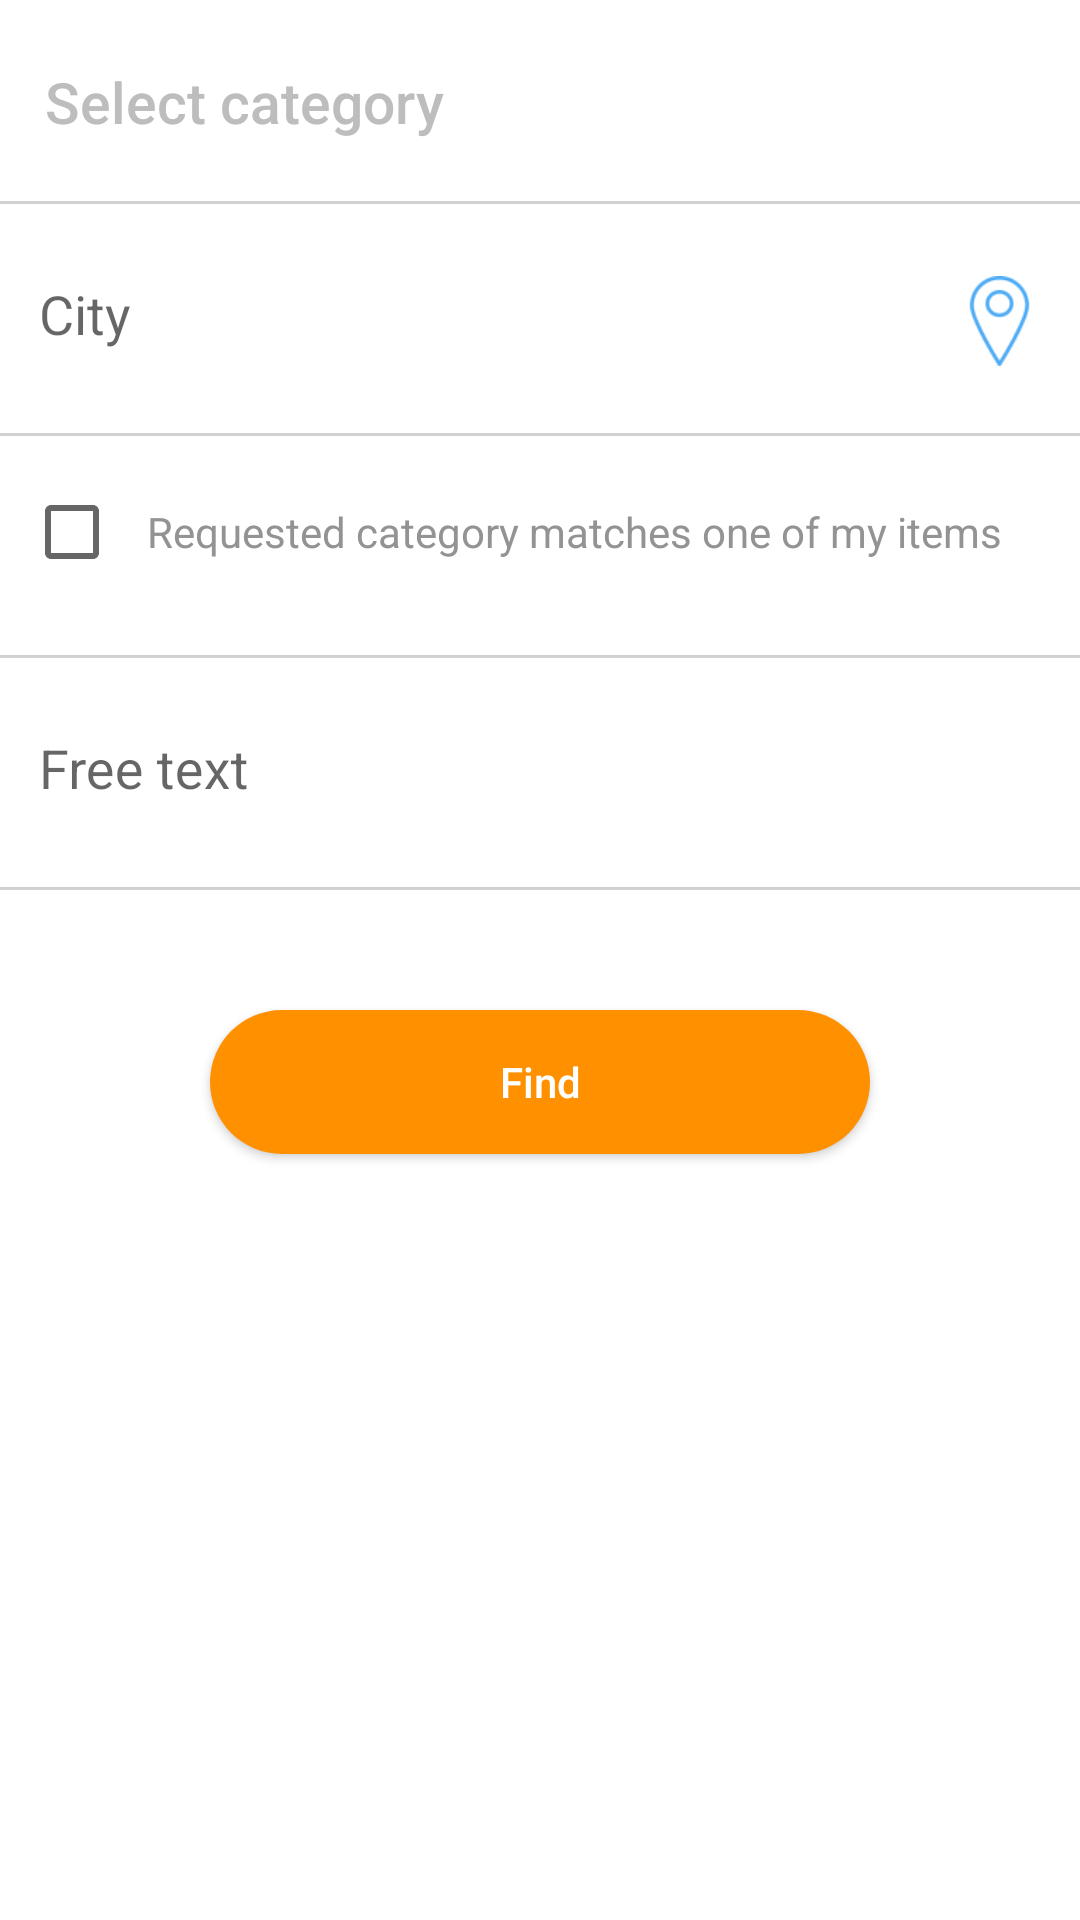

Named icons in this screenshot (1080x1920) and their bounding boxes, BBox(x1, y1, x2, y2):
placelocalizer: BBox(969, 276, 1030, 366)
